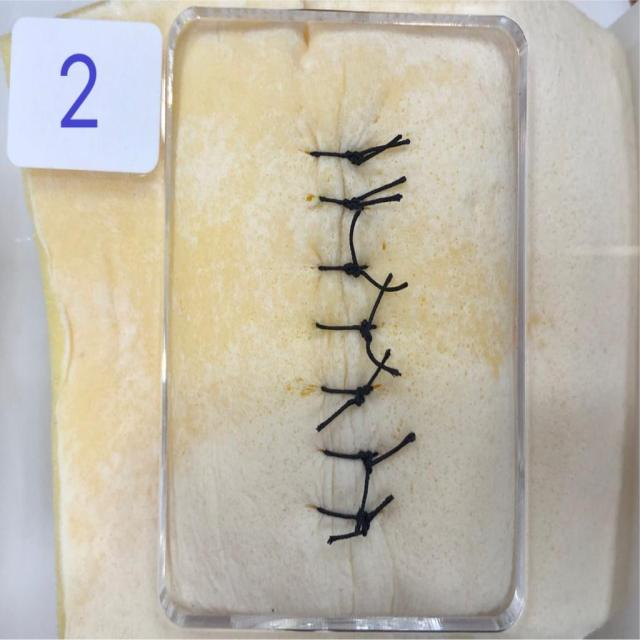knot: (356, 510, 370, 537), (355, 386, 373, 406), (359, 452, 373, 474), (343, 263, 361, 279), (359, 320, 372, 342), (343, 197, 363, 211), (346, 151, 363, 165)
leftover: (362, 431, 418, 464), (364, 270, 394, 330), (351, 175, 408, 206), (363, 325, 398, 375), (361, 346, 393, 396), (355, 265, 410, 292), (353, 137, 412, 159), (359, 132, 404, 160), (325, 519, 371, 546), (363, 494, 396, 524), (355, 454, 368, 527), (349, 206, 362, 270), (359, 194, 404, 207)
stitch: (314, 504, 373, 525), (313, 322, 379, 331), (321, 449, 374, 460), (319, 385, 371, 396), (317, 195, 363, 207), (308, 151, 366, 160), (315, 263, 370, 272)
wound: (337, 70, 357, 614)
